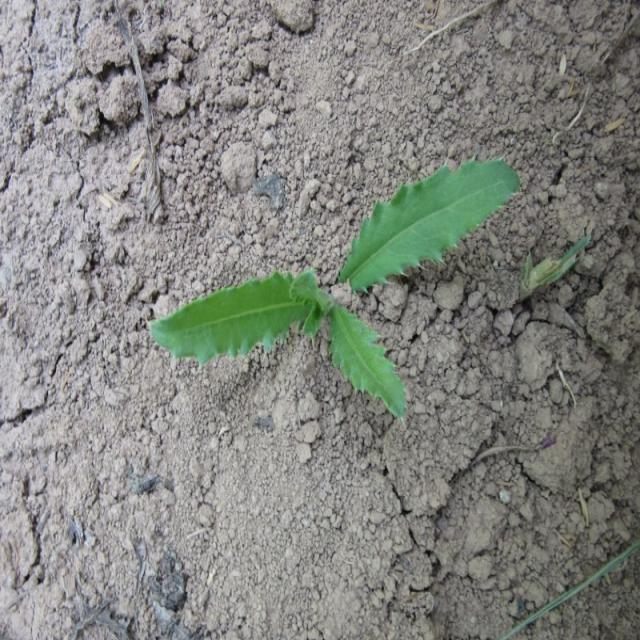field_thistle: (143, 142, 524, 421)
